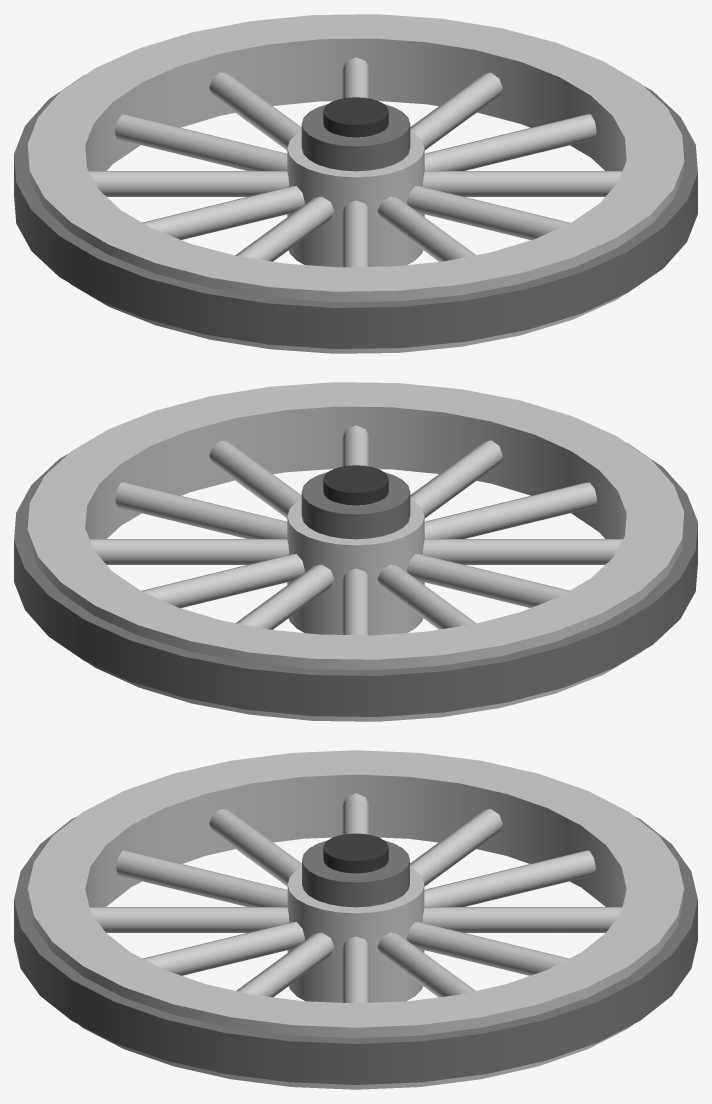
File: LunTai_MuLun_1X5.FBX
The picture shows the model from 3 angles, top to bottom: view 1: azimuth 30°, elevation 25°; view 2: azimuth 150°, elevation 25°; view 3: azimuth 270°, elevation 25°; orthographic projection.
Parts seen in each view (by area): view 1: Box001; view 2: Box001; view 3: Box001.
Part boxes in pixels (x1,y1,x2,y2): Box001: (14,14,697,353); Box001: (14,382,697,721); Box001: (14,750,697,1089).
Bounding box in the file's own units: 5 × 1.09 × 5.
